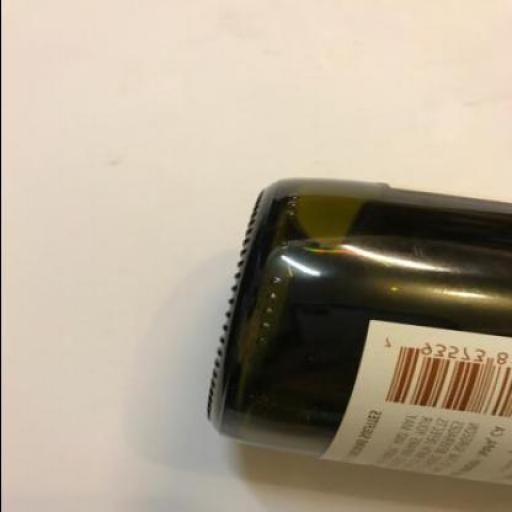glass: (203, 178, 511, 485)
